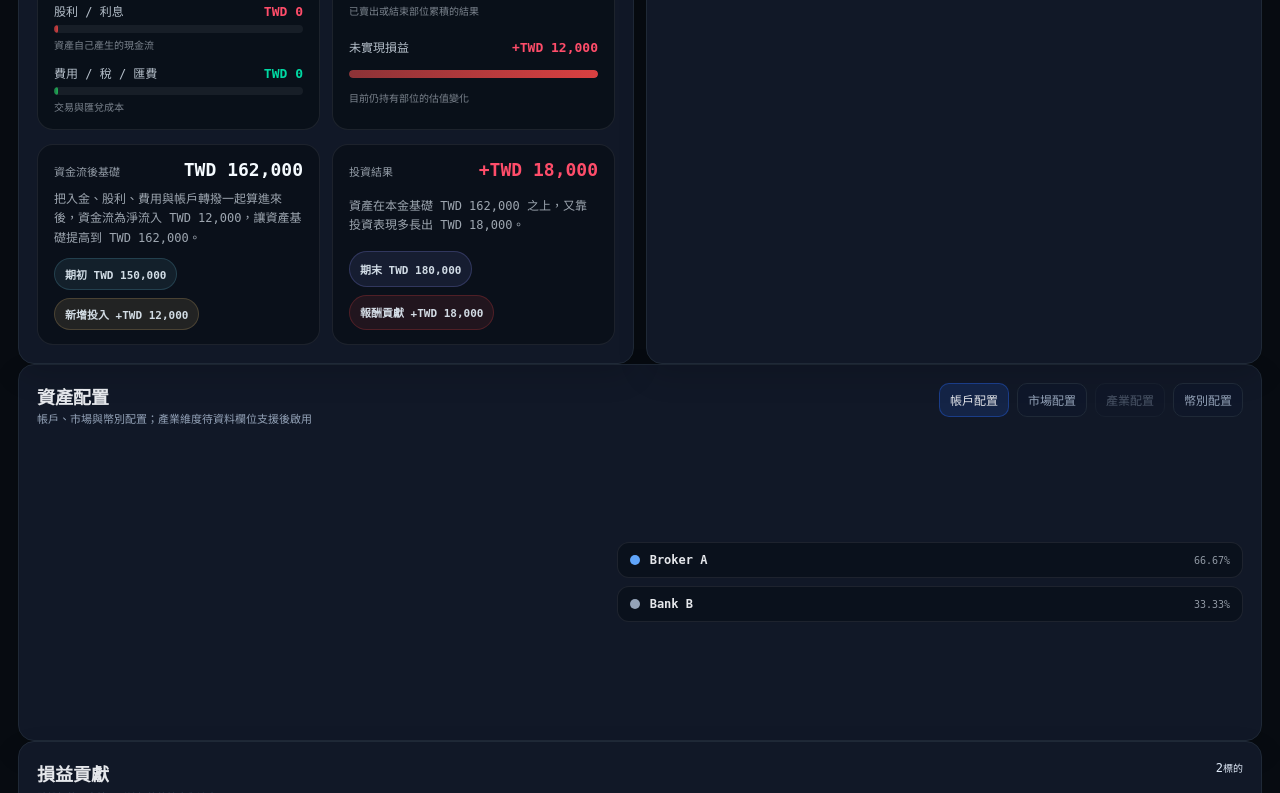
Test: AssetOverviewPanel › shows an empty state when currency allocation is empty
The width and height of the screenshot is (1280, 793).
(page scrolled)
Click the button with test id "asset-allocation-tab-currency": (1208,400) x1=1173 y1=383 x2=1243 y2=417
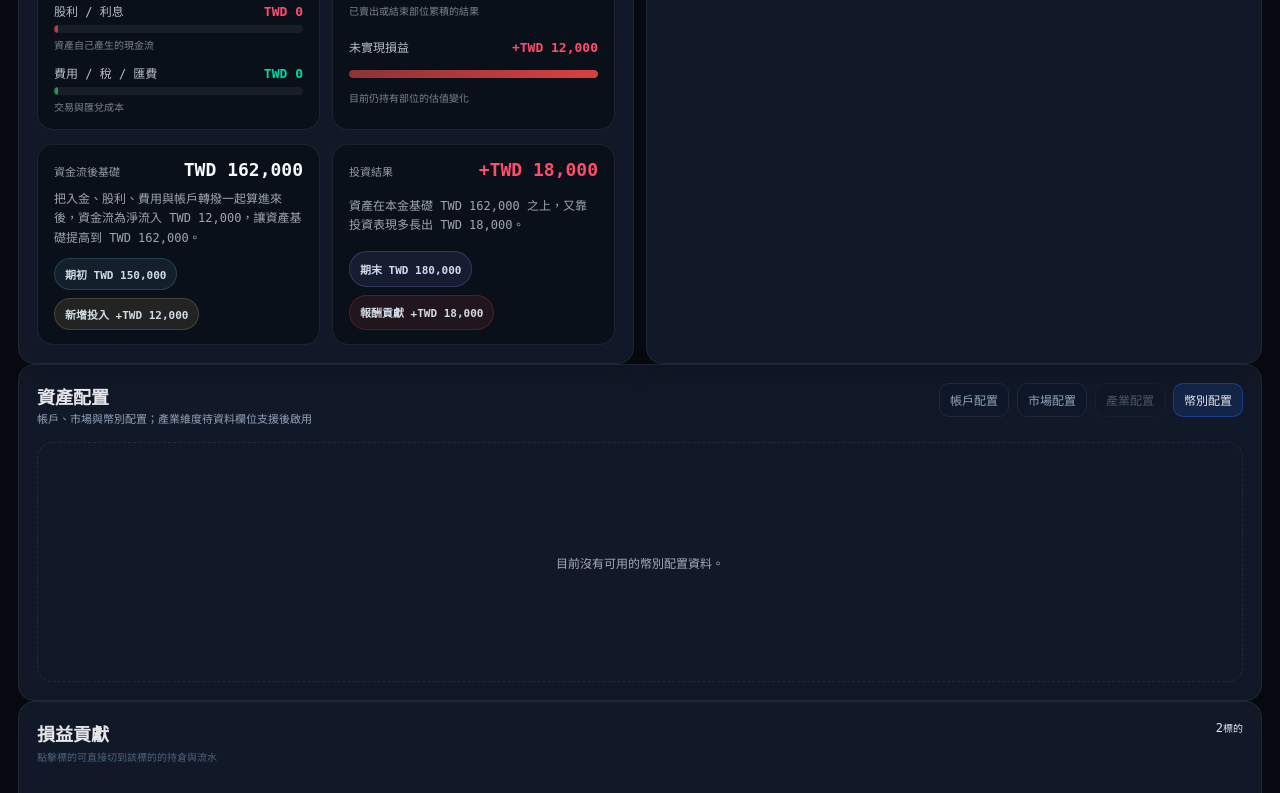
expect the text with test id "asset-allocation-empty" shows "幣別配置": met, box x1=556 y1=557 x2=724 y2=571
